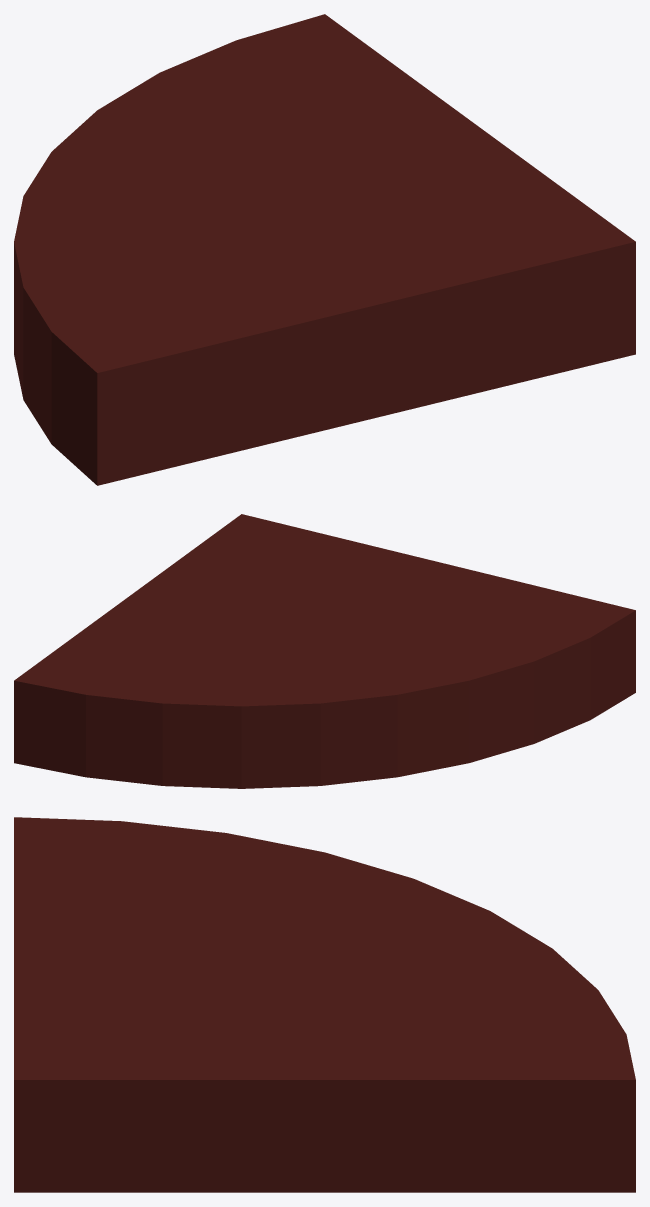
The model's file is vox_road_bendshort.fbx.
3 views of the same model, one above another, from view 1: azimuth 30°, elevation 25°; view 2: azimuth 150°, elevation 25°; view 3: azimuth 270°, elevation 25° (orthographic). The views are drawn at different scales.
Parts seen in each view (by area): view 1: Cube.080; view 2: Cube.080; view 3: Cube.080.
Part boxes in pixels (<box>): Cube.080: <box>14,14,635,485</box>; Cube.080: <box>14,514,635,788</box>; Cube.080: <box>14,817,635,1192</box>.
Bounding box in the file's own units: 64 × 12.8 × 64.
